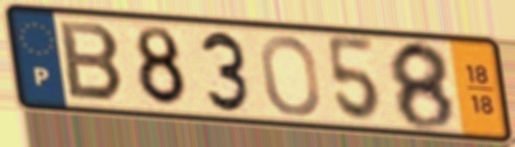3: (198, 28, 251, 115)
5: (322, 31, 384, 127)
8: (385, 38, 460, 134), (131, 23, 190, 111)
B: (56, 17, 128, 105)
O: (257, 33, 324, 119)
